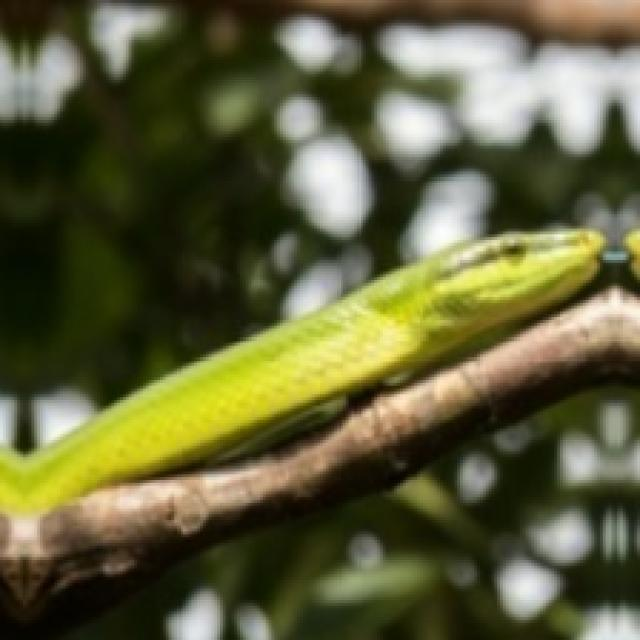red-tailed green ratsnake: (0, 229, 604, 513)
